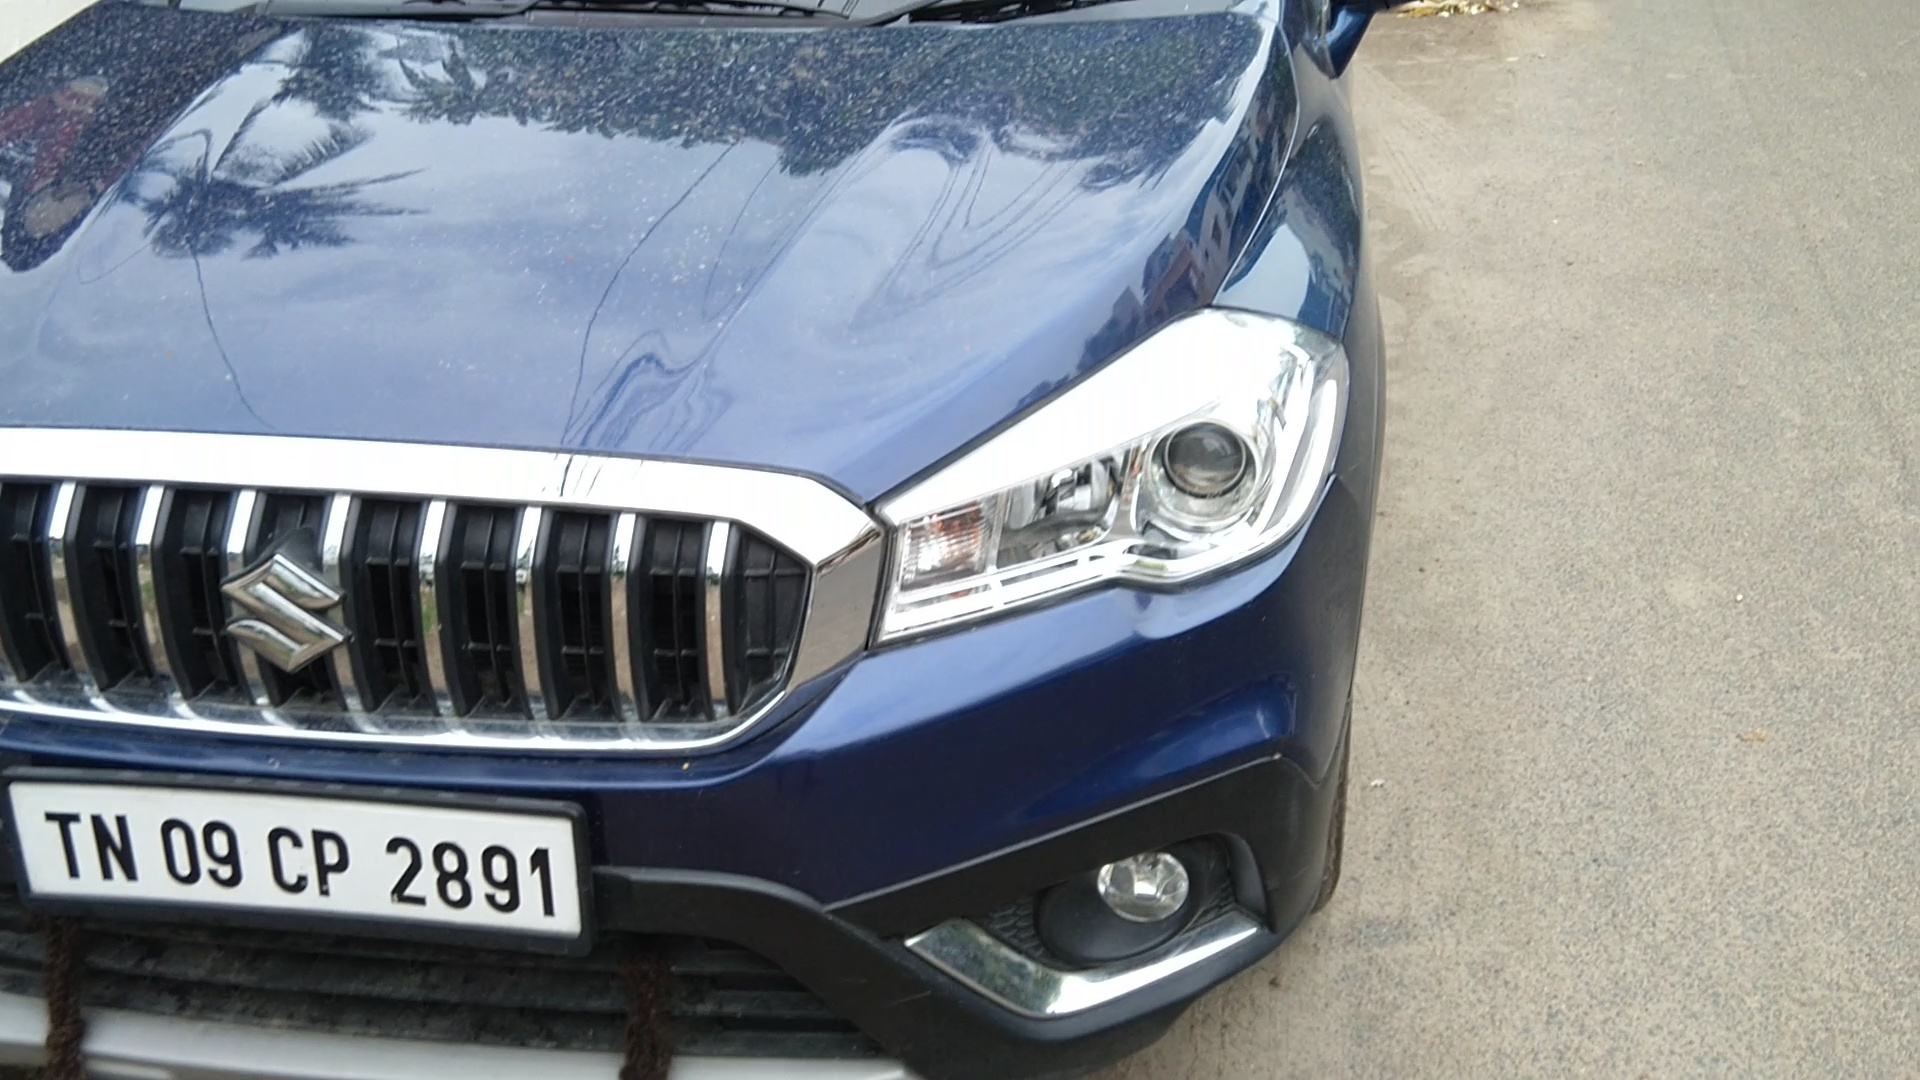front_grill: (1, 431, 870, 742)
headlamp: (873, 287, 1358, 680)
